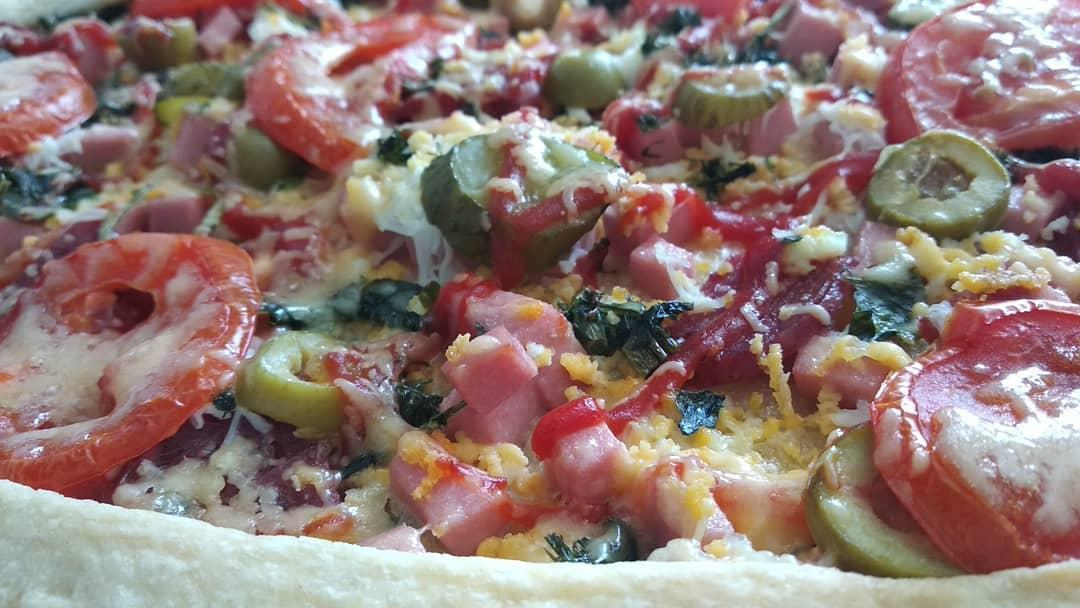Ham: (539, 416, 836, 568), (436, 287, 598, 406), (377, 441, 517, 547), (416, 368, 562, 452), (793, 320, 904, 410), (438, 320, 540, 410), (0, 187, 105, 272), (52, 107, 159, 183), (732, 86, 820, 166), (159, 96, 239, 179), (768, 0, 869, 63), (117, 176, 210, 239), (545, 0, 636, 45)
Olives: (419, 135, 640, 276), (865, 123, 1017, 238), (228, 329, 376, 428), (665, 64, 798, 124), (540, 47, 637, 110), (162, 49, 249, 109), (232, 125, 313, 189), (116, 17, 205, 61), (479, 0, 573, 36)
Pizza: (0, 0, 1080, 608)
Tomatoes: (0, 227, 262, 504), (869, 292, 1080, 582), (247, 7, 480, 179), (871, 0, 1080, 158), (0, 48, 102, 163), (121, 0, 342, 21)
